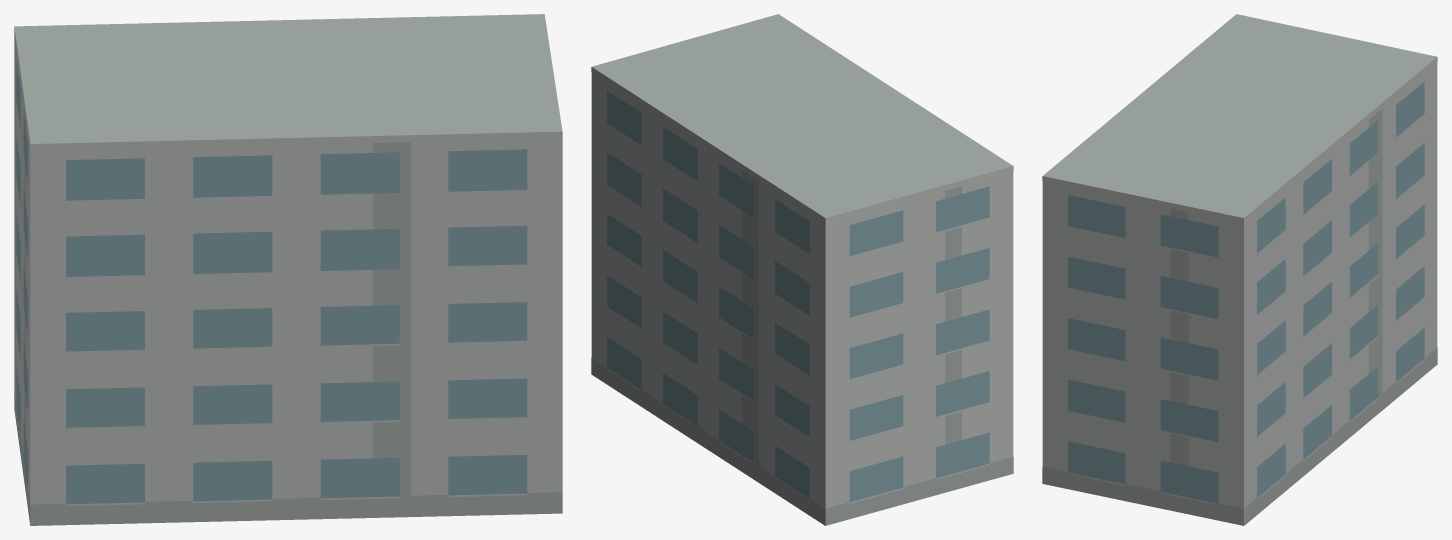
The model's file is survey-upis-32888303.glb.
3 views of the same model, side by side, from view 1: azimuth 30°, elevation 25°; view 2: azimuth 150°, elevation 25°; view 3: azimuth 270°, elevation 25° (orthographic). The views are drawn at different scales.
Visible parts, largest first — view 1: survey-upis-32888303.tmp; view 2: survey-upis-32888303.tmp; view 3: survey-upis-32888303.tmp.
Boxes of the visible parts, <box> form: survey-upis-32888303.tmp: <box>14,14,562,525</box>; survey-upis-32888303.tmp: <box>591,14,1013,525</box>; survey-upis-32888303.tmp: <box>1042,14,1437,525</box>.
Bounding box in the file's own units: 18.78 × 13.2 × 15.36.
